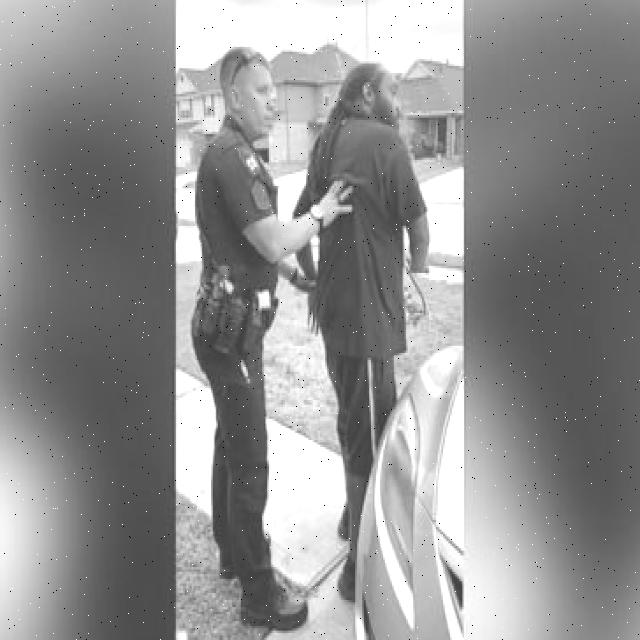police: (183, 14, 348, 640)
